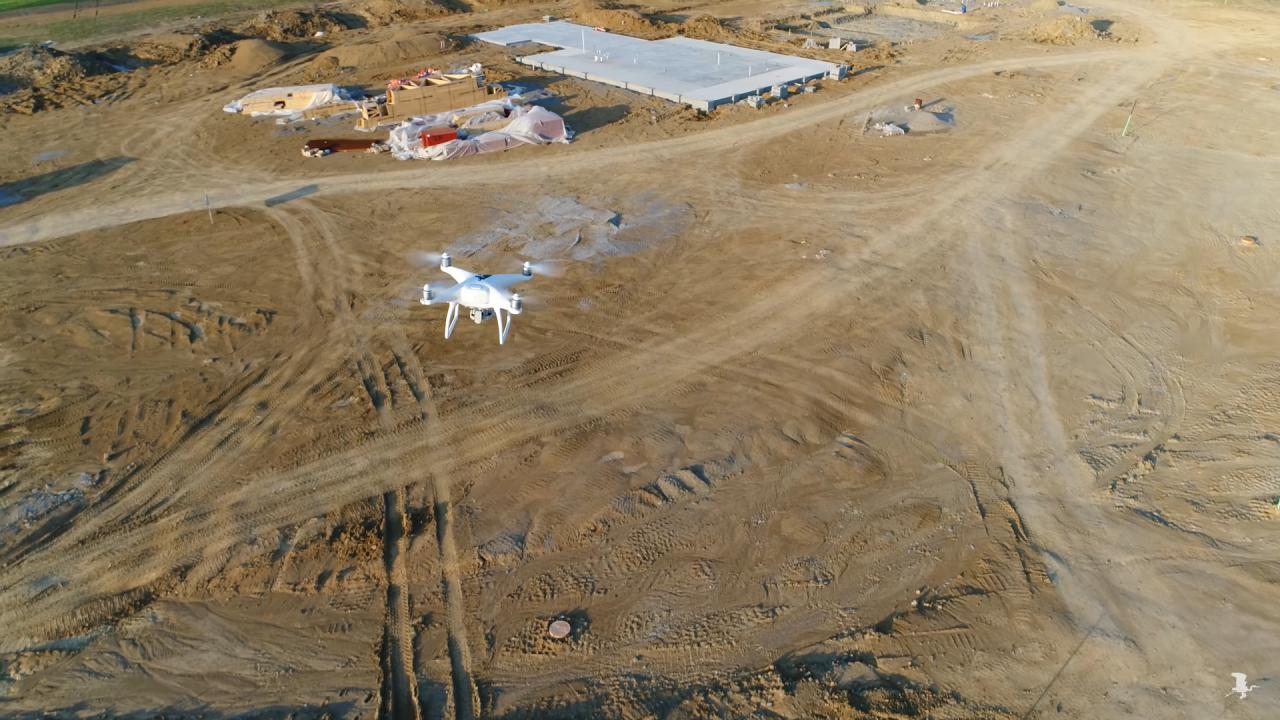Drone: (398, 240, 571, 354)
